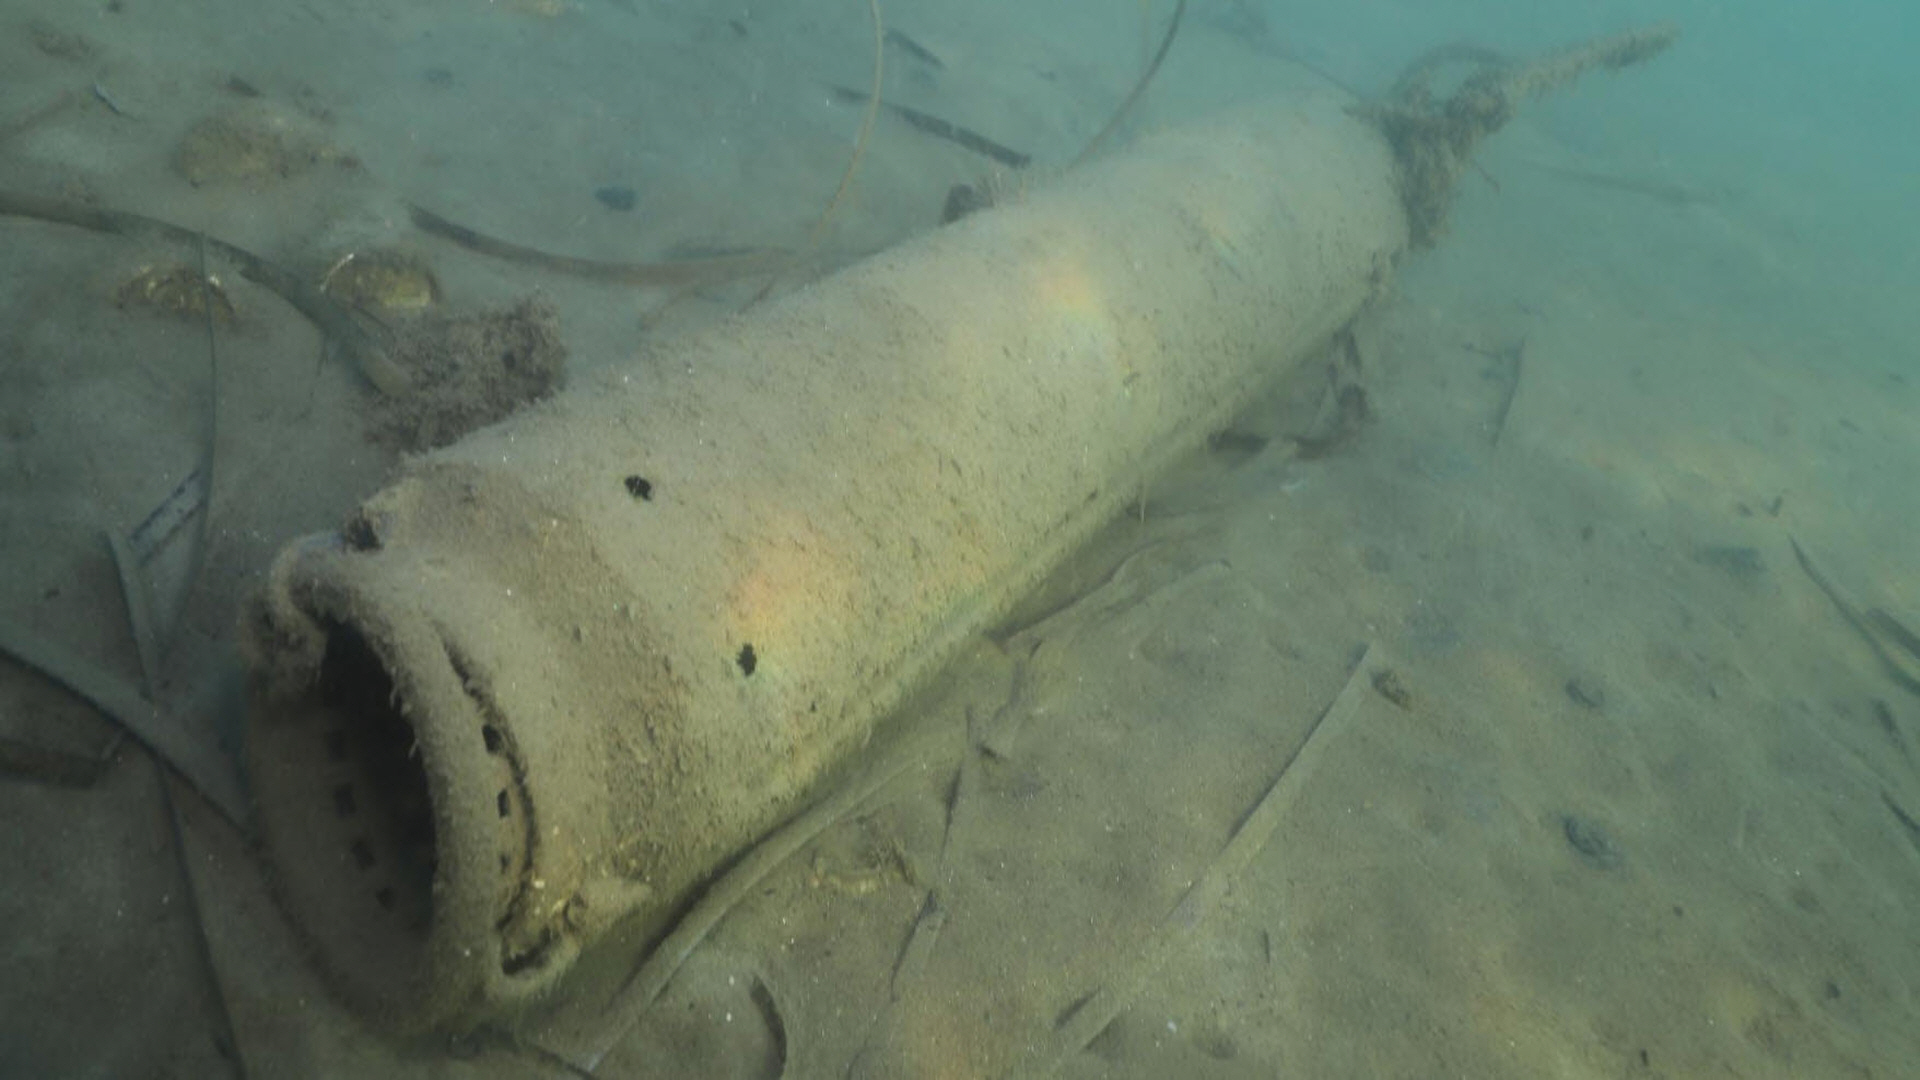bundle of ropes: (1378, 22, 1677, 227)
eel fish trap: (229, 88, 1408, 1040)
